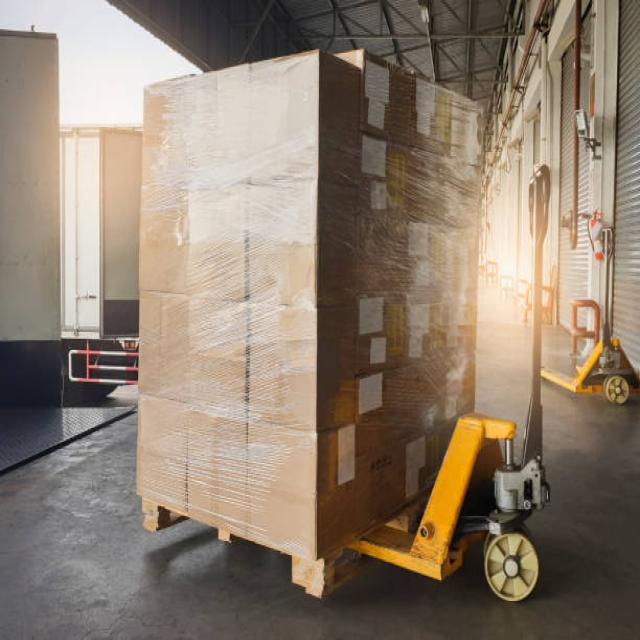Wooden-Pallets: (137, 491, 369, 598)
